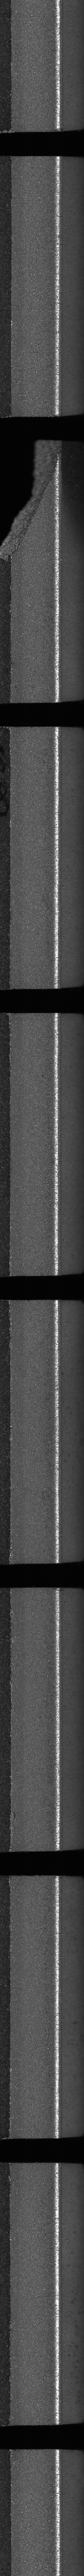Chip: (0, 435, 66, 570)
